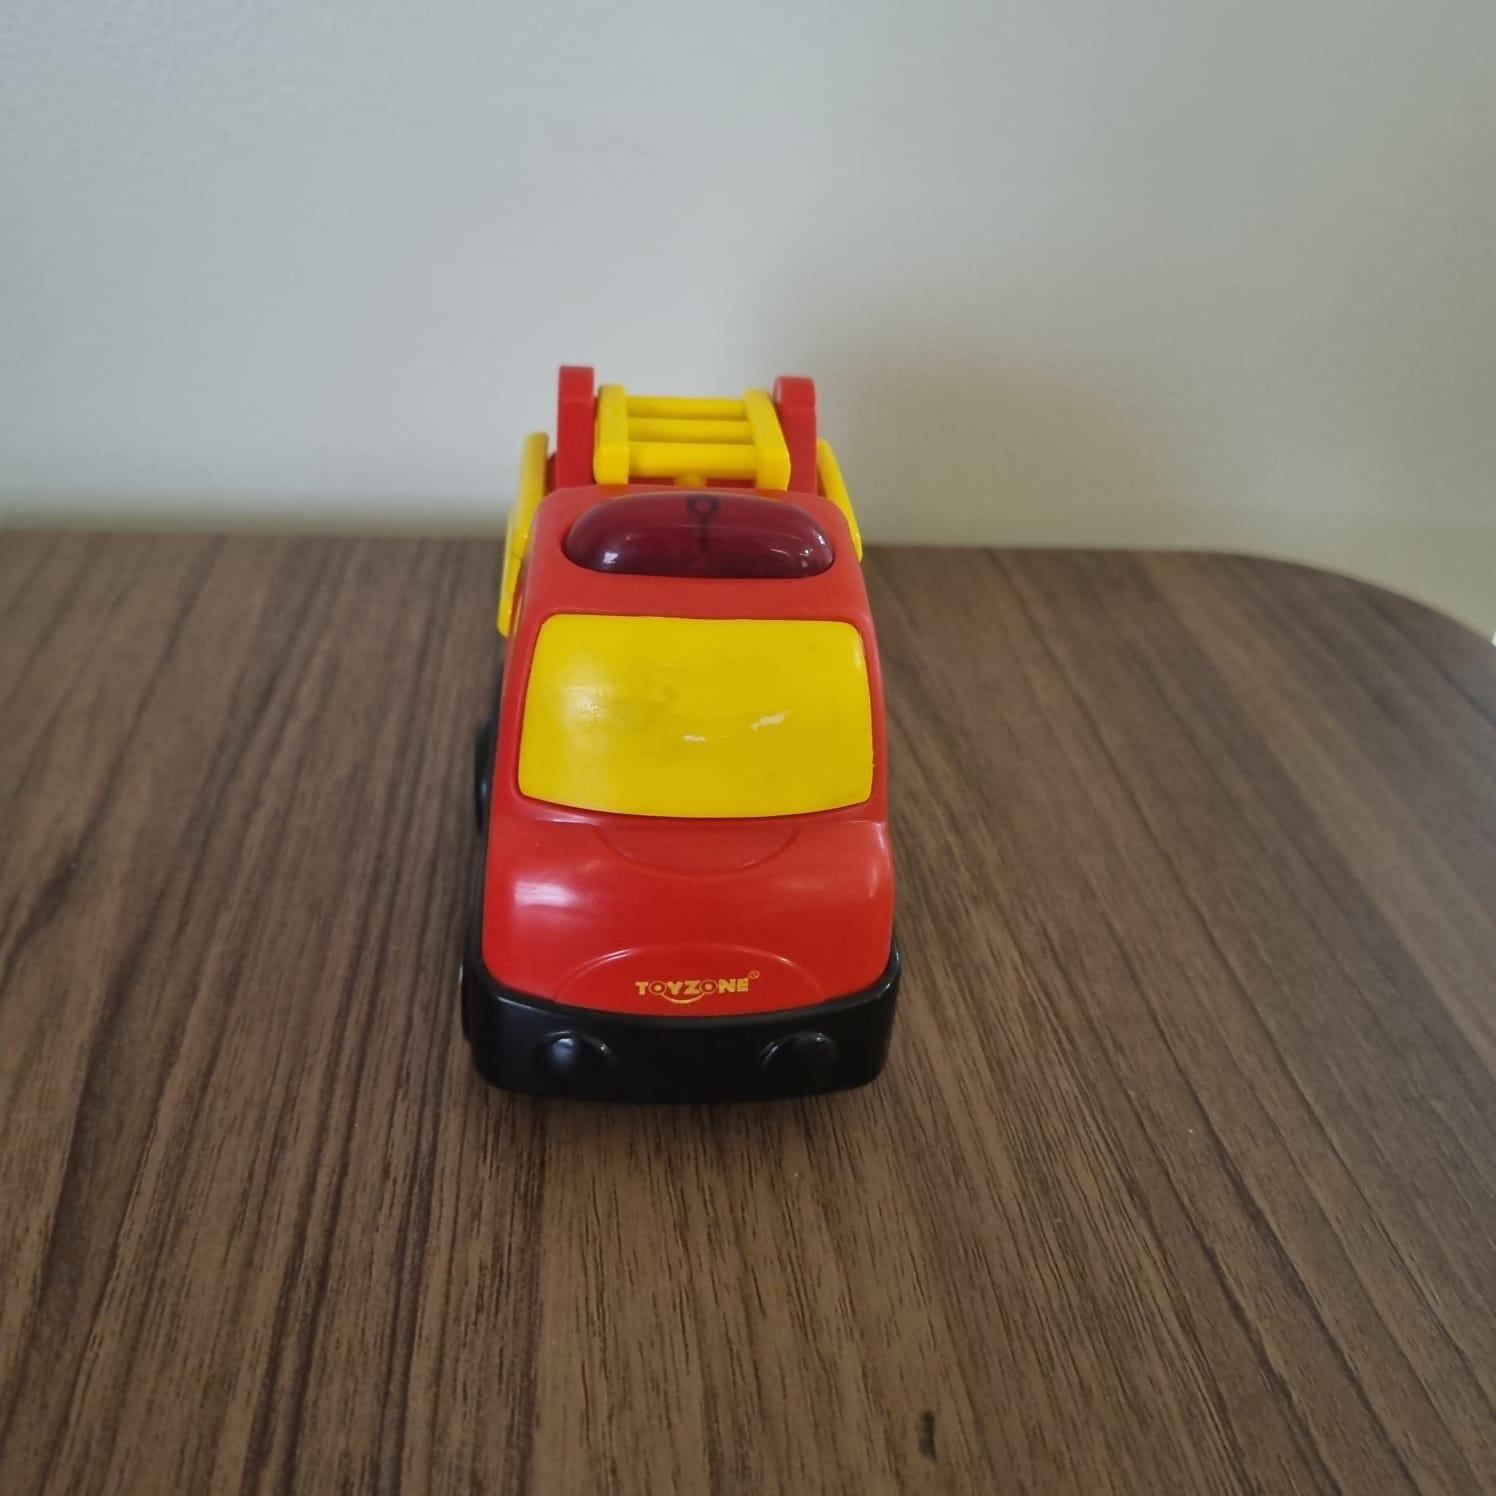firetruck_off: (464, 367, 911, 1101)
